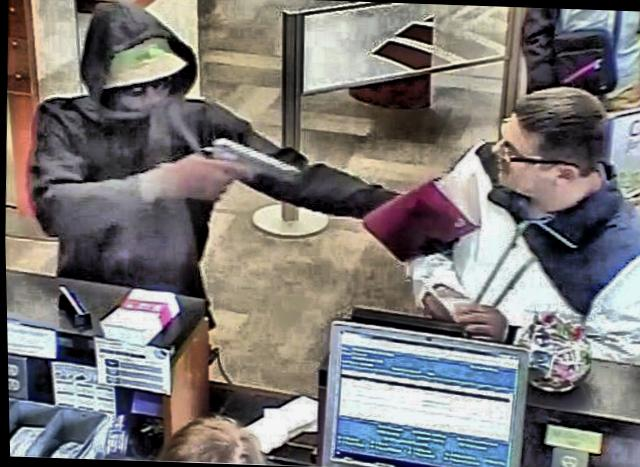pistol: (188, 130, 302, 216)
